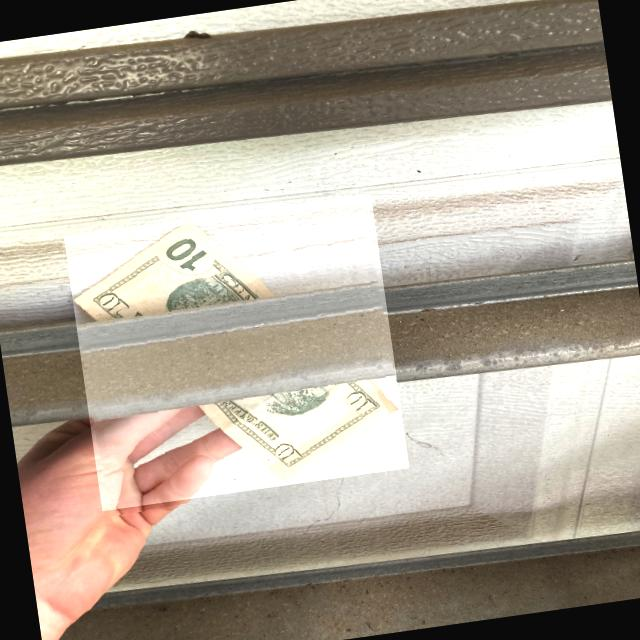ten: (74, 199, 402, 513)
